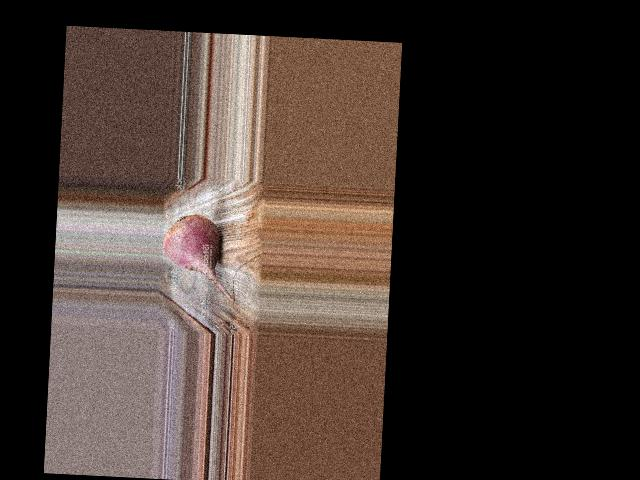beet: (160, 213, 238, 302)
